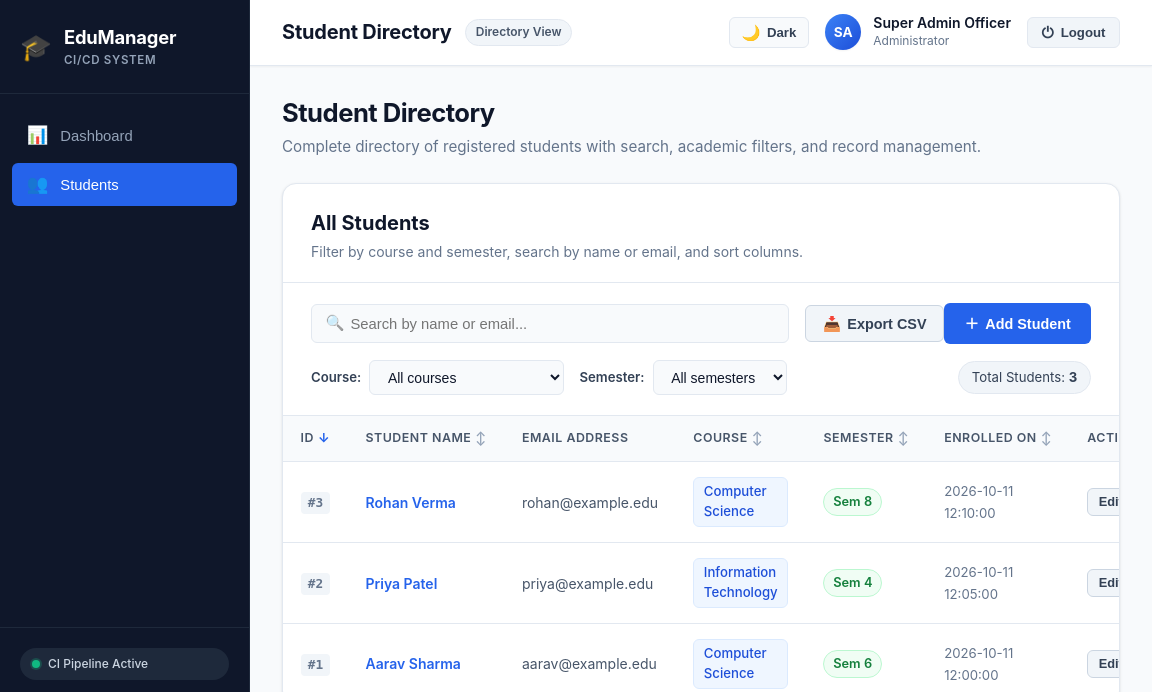
Test: Student Management System - Frontend Tests › opens student detail page when clicking a student name in directory
Note: Click on the student name link
Click the button titled "View details for Aarav Sharma". click: (413, 664)
box: [366, 656, 461, 672]
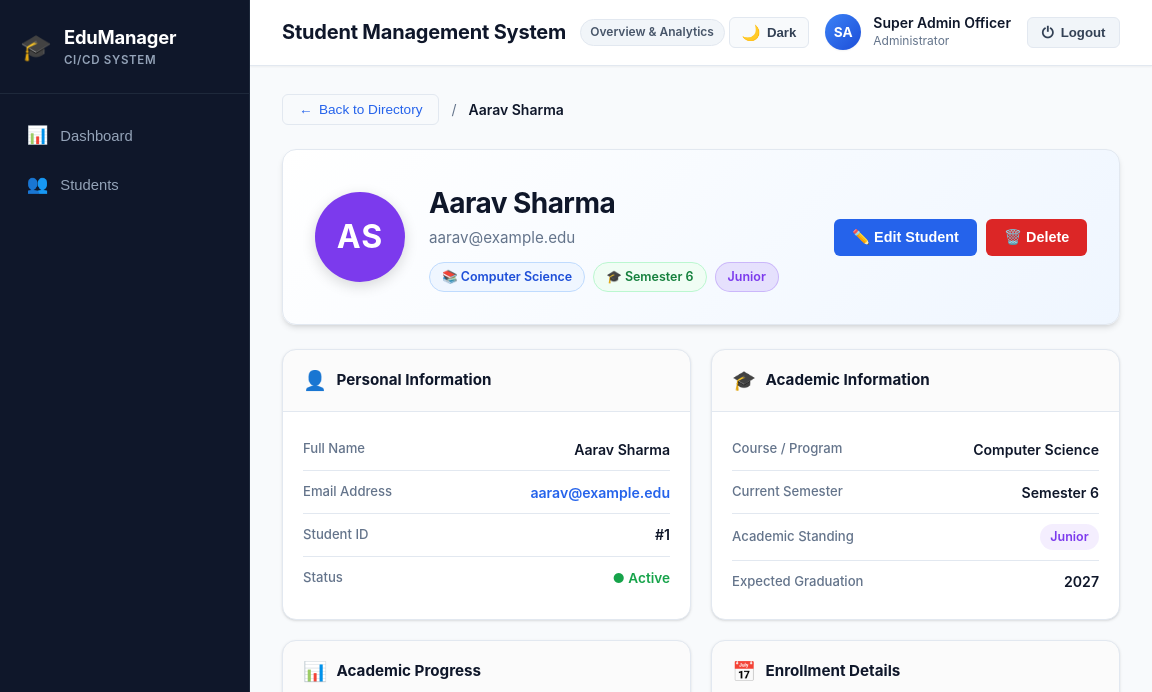
Result: the heading "Personal Information" is shown at [336, 370, 491, 392]
Result: the heading "Academic Information" is shown at [766, 370, 930, 392]
Result: the heading "Academic Progress" is shown at [336, 660, 481, 683]
